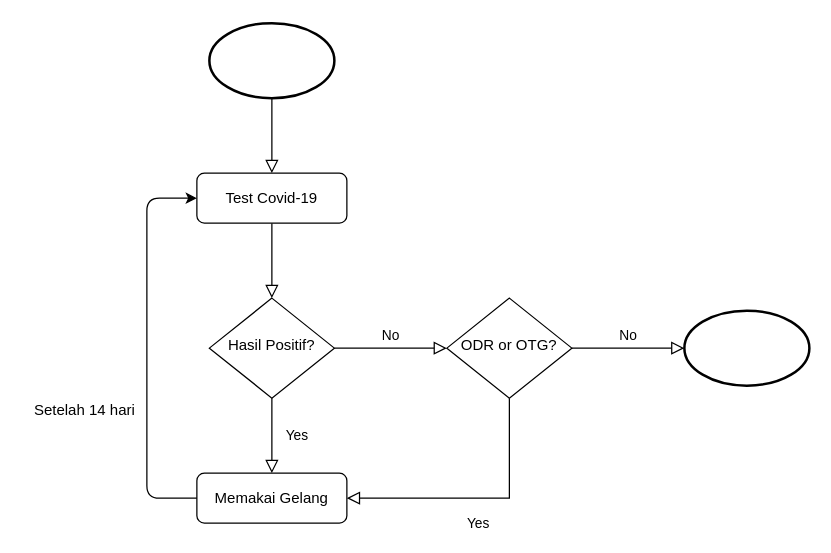
Image size: 831x553. Some labels were removed from this diagram. The shapes that lost their labels are listed below. From the top down, each one's centre as x and y in pixels, then its label:
At point 271,60: "Start".
At point 746,347: "End".
